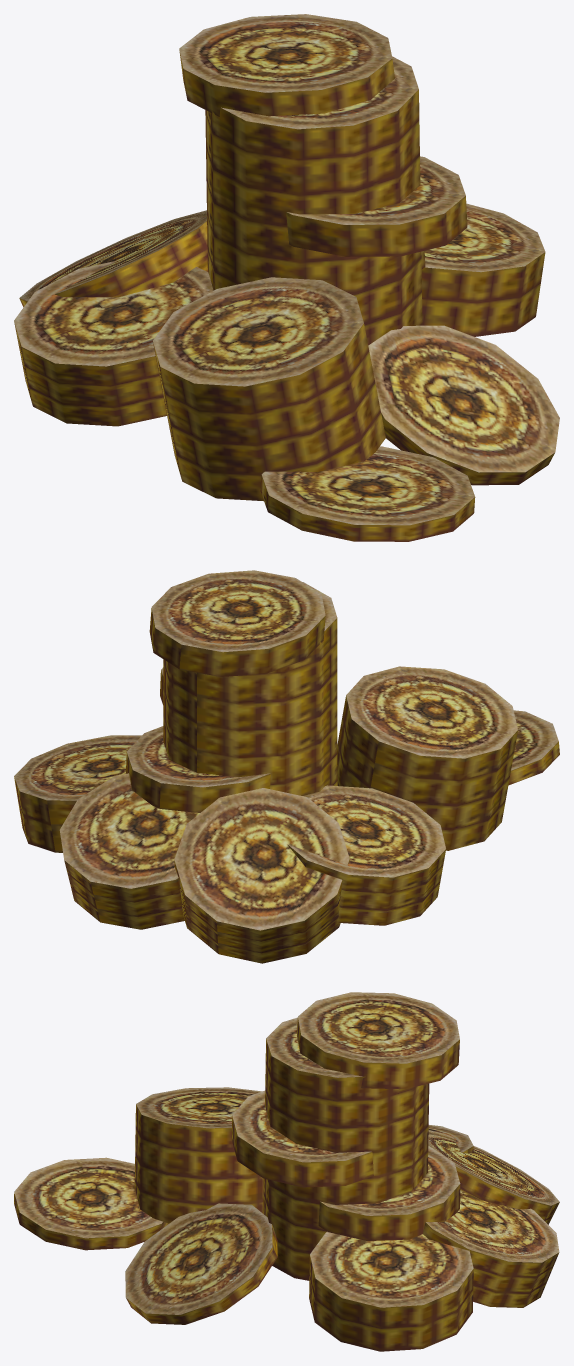
The model's file is Gold.FBX.
The picture shows the model from 3 angles, top to bottom: view 1: azimuth 30°, elevation 25°; view 2: azimuth 150°, elevation 25°; view 3: azimuth 270°, elevation 25°; orthographic projection. The views are drawn at different scales.
Parts seen in each view (by area): view 1: Item_Drop_Money_SM; view 2: Item_Drop_Money_SM; view 3: Item_Drop_Money_SM.
Boxes of the visible parts, x1,y1,x2,y2 form: Item_Drop_Money_SM: (14, 14, 559, 541); Item_Drop_Money_SM: (14, 570, 559, 963); Item_Drop_Money_SM: (14, 992, 559, 1351).
Bounding box in the file's own units: 6.22 × 4.01 × 7.65.
